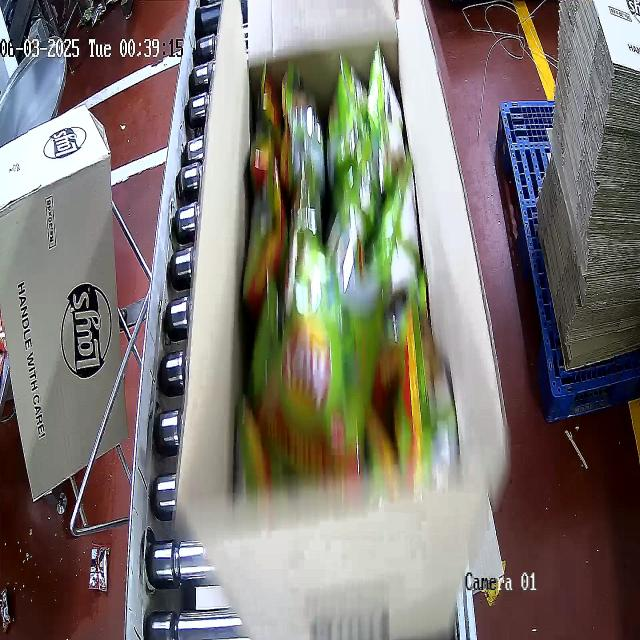YOGURT_HERB: (237, 40, 453, 524)
